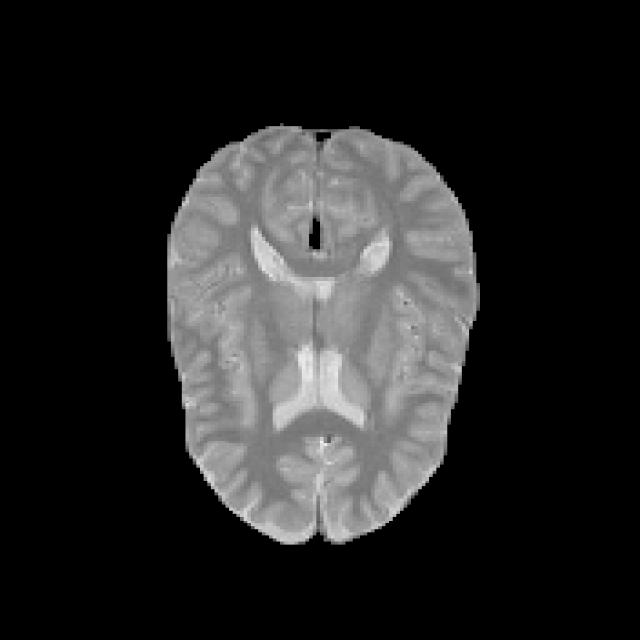CONTROL: (164, 120, 480, 545)
